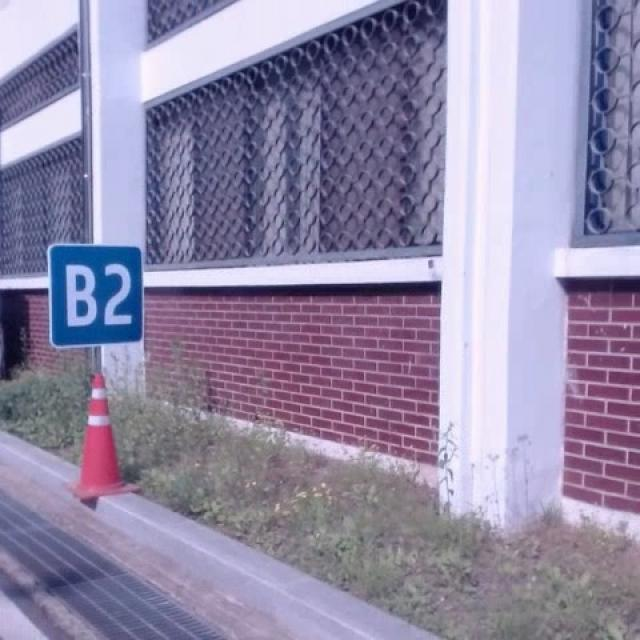b2: (43, 237, 152, 354)
